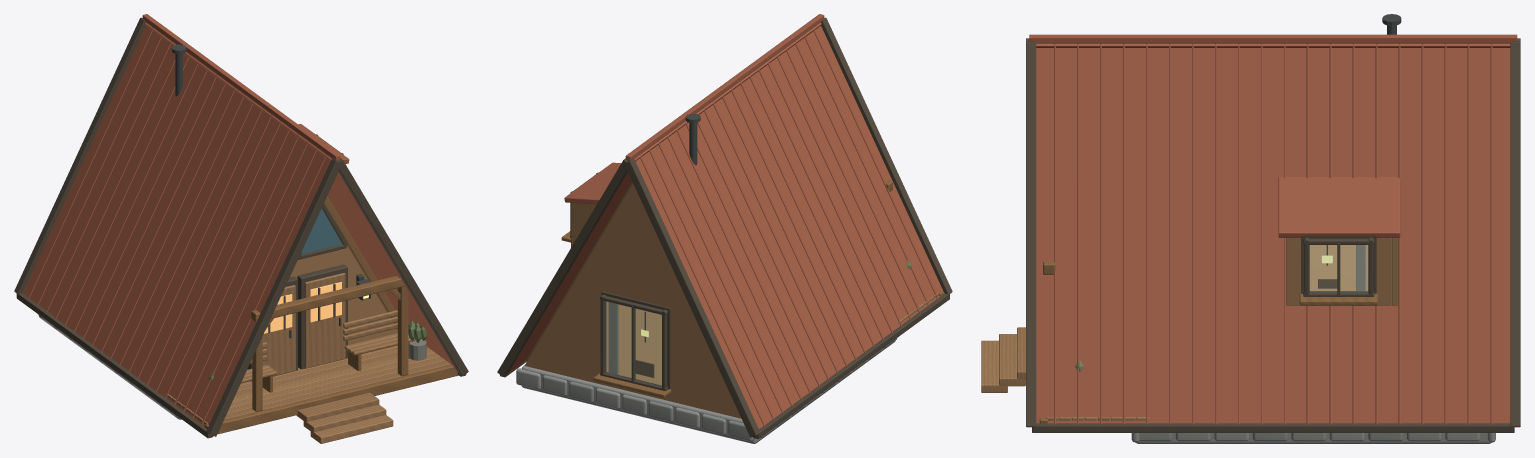
The model's file is Lake_Cabin_AFrameCopper.glb.
3 renders of one model, left to right at view 1: azimuth 30°, elevation 25°; view 2: azimuth 150°, elevation 25°; view 3: azimuth 270°, elevation 25°, orthographic. The views are drawn at different scales.
Visible parts, largest first — view 1: Cabin_AFrameCopper; view 2: Cabin_AFrameCopper; view 3: Cabin_AFrameCopper.
Boxes of the visible parts, bbox=[...] form: Cabin_AFrameCopper: bbox=[14, 14, 468, 443]; Cabin_AFrameCopper: bbox=[497, 14, 952, 443]; Cabin_AFrameCopper: bbox=[981, 14, 1520, 443].
Size of the model in its own units: 6.76 by 6.84 by 9.67.
18 materials, 5 textured.
